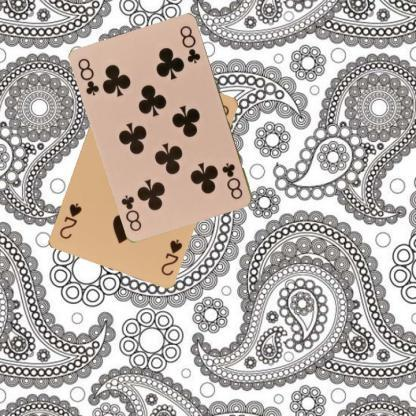2s: (158, 236, 184, 277)
8c: (76, 56, 102, 98), (220, 160, 244, 201)
